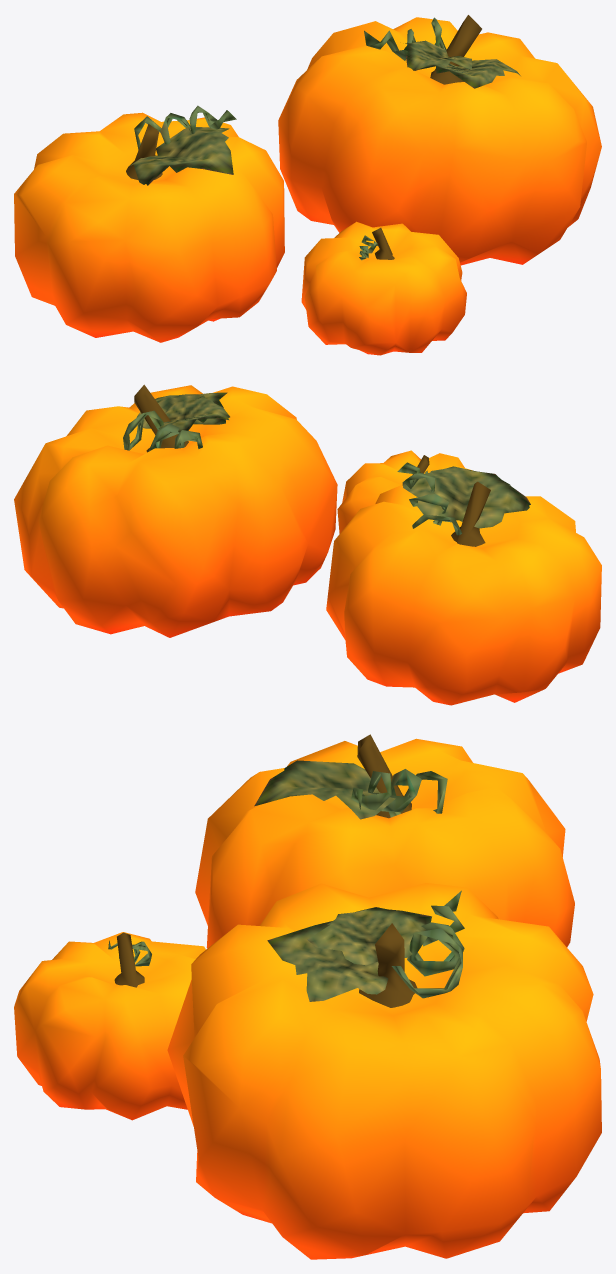
3 renders of one model, top to bottom at view 1: azimuth 30°, elevation 25°; view 2: azimuth 150°, elevation 25°; view 3: azimuth 270°, elevation 25°, orthographic. The views are drawn at different scales.
Visible parts, largest first — view 1: PlainPumpkinCluster; view 2: PlainPumpkinCluster; view 3: PlainPumpkinCluster.
Boxes of the visible parts, box(x1,y1,x2,y2) form: PlainPumpkinCluster: box(14, 15, 601, 355); PlainPumpkinCluster: box(14, 384, 601, 705); PlainPumpkinCluster: box(14, 734, 601, 1259).
Size of what is drawn, in the model's own units: 1.51 by 0.5851 by 1.02.
1 material, 1 textured.
